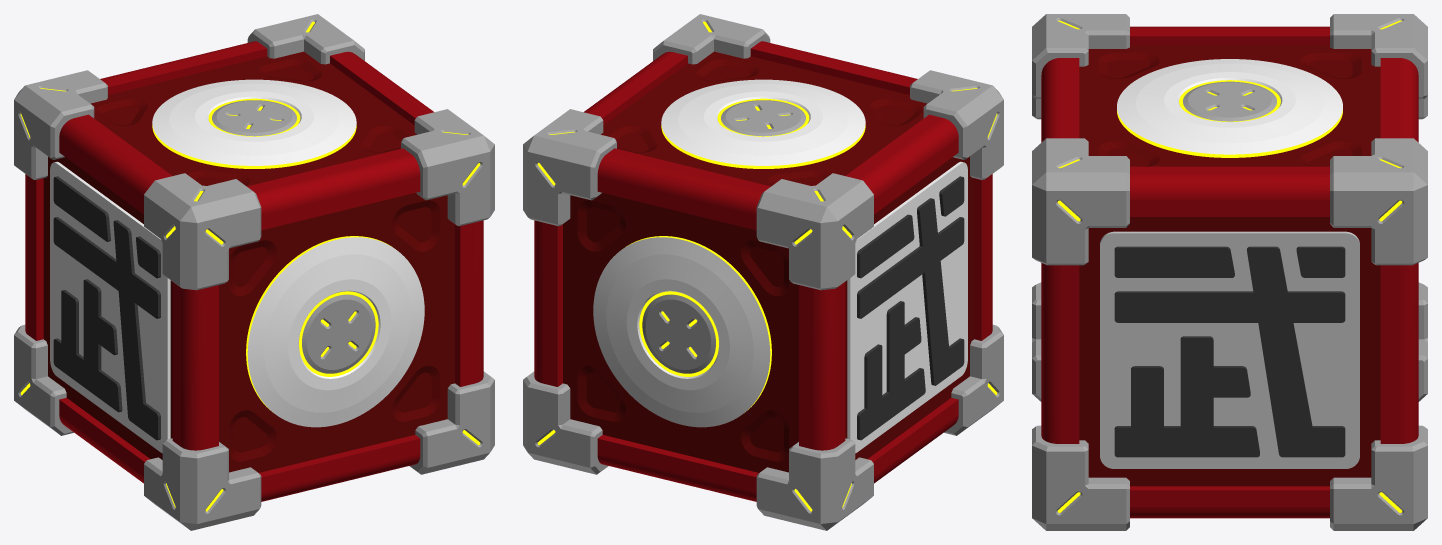
3 renders of one model, left to right at view 1: azimuth 30°, elevation 25°; view 2: azimuth 150°, elevation 25°; view 3: azimuth 270°, elevation 25°, orthographic. The views are drawn at different scales.
Parts seen in each view (by area): view 1: root; view 2: root; view 3: root.
Part boxes in pixels (box(x1,y1,x2,y2)): root: box(14, 14, 494, 530); root: box(523, 14, 1003, 530); root: box(1032, 14, 1427, 530).
Bounding box in the file's own units: 10.68 × 10.5 × 10.5.
